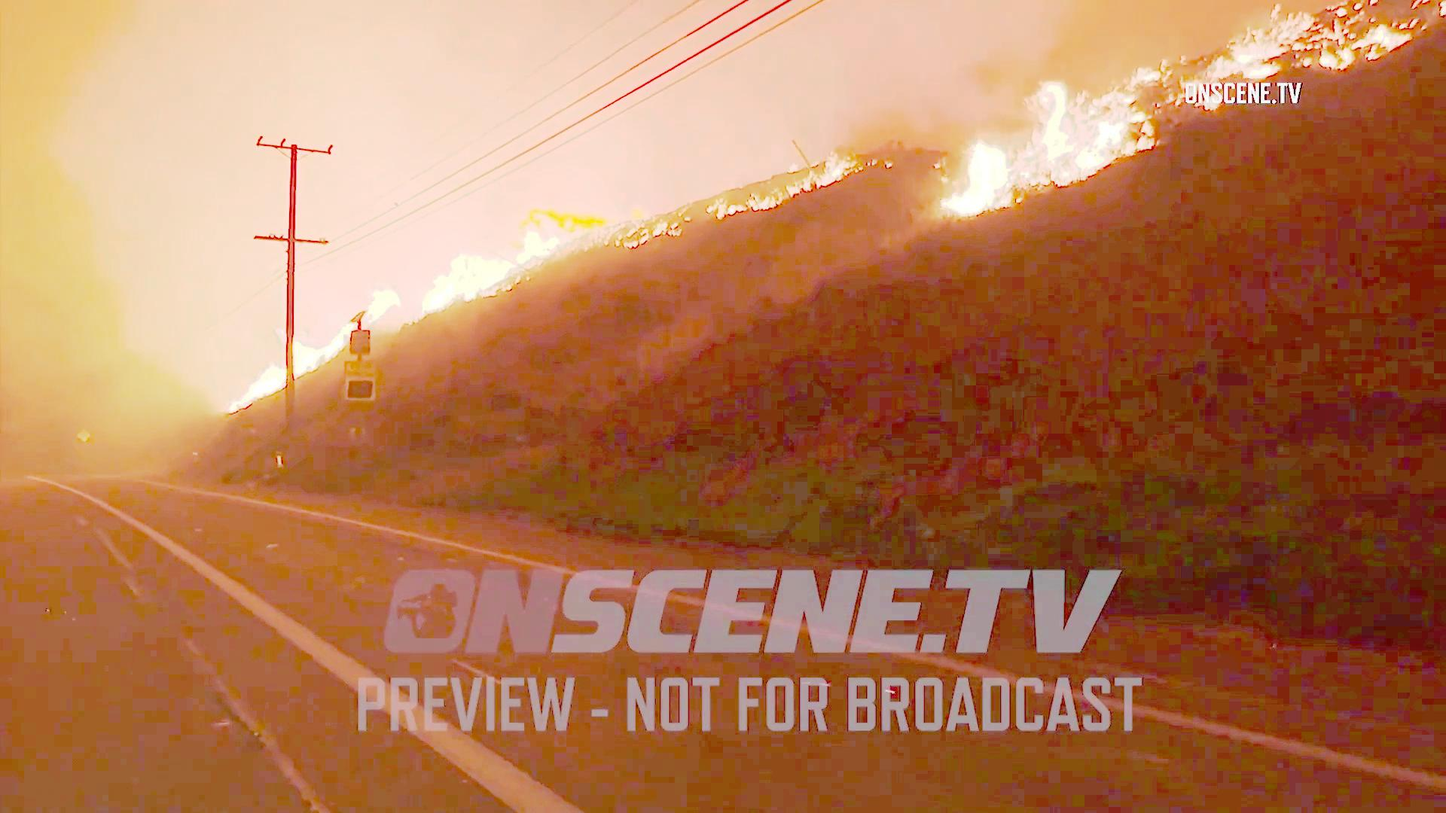fire: (944, 83, 1118, 217), (207, 335, 328, 422), (418, 222, 519, 308)
